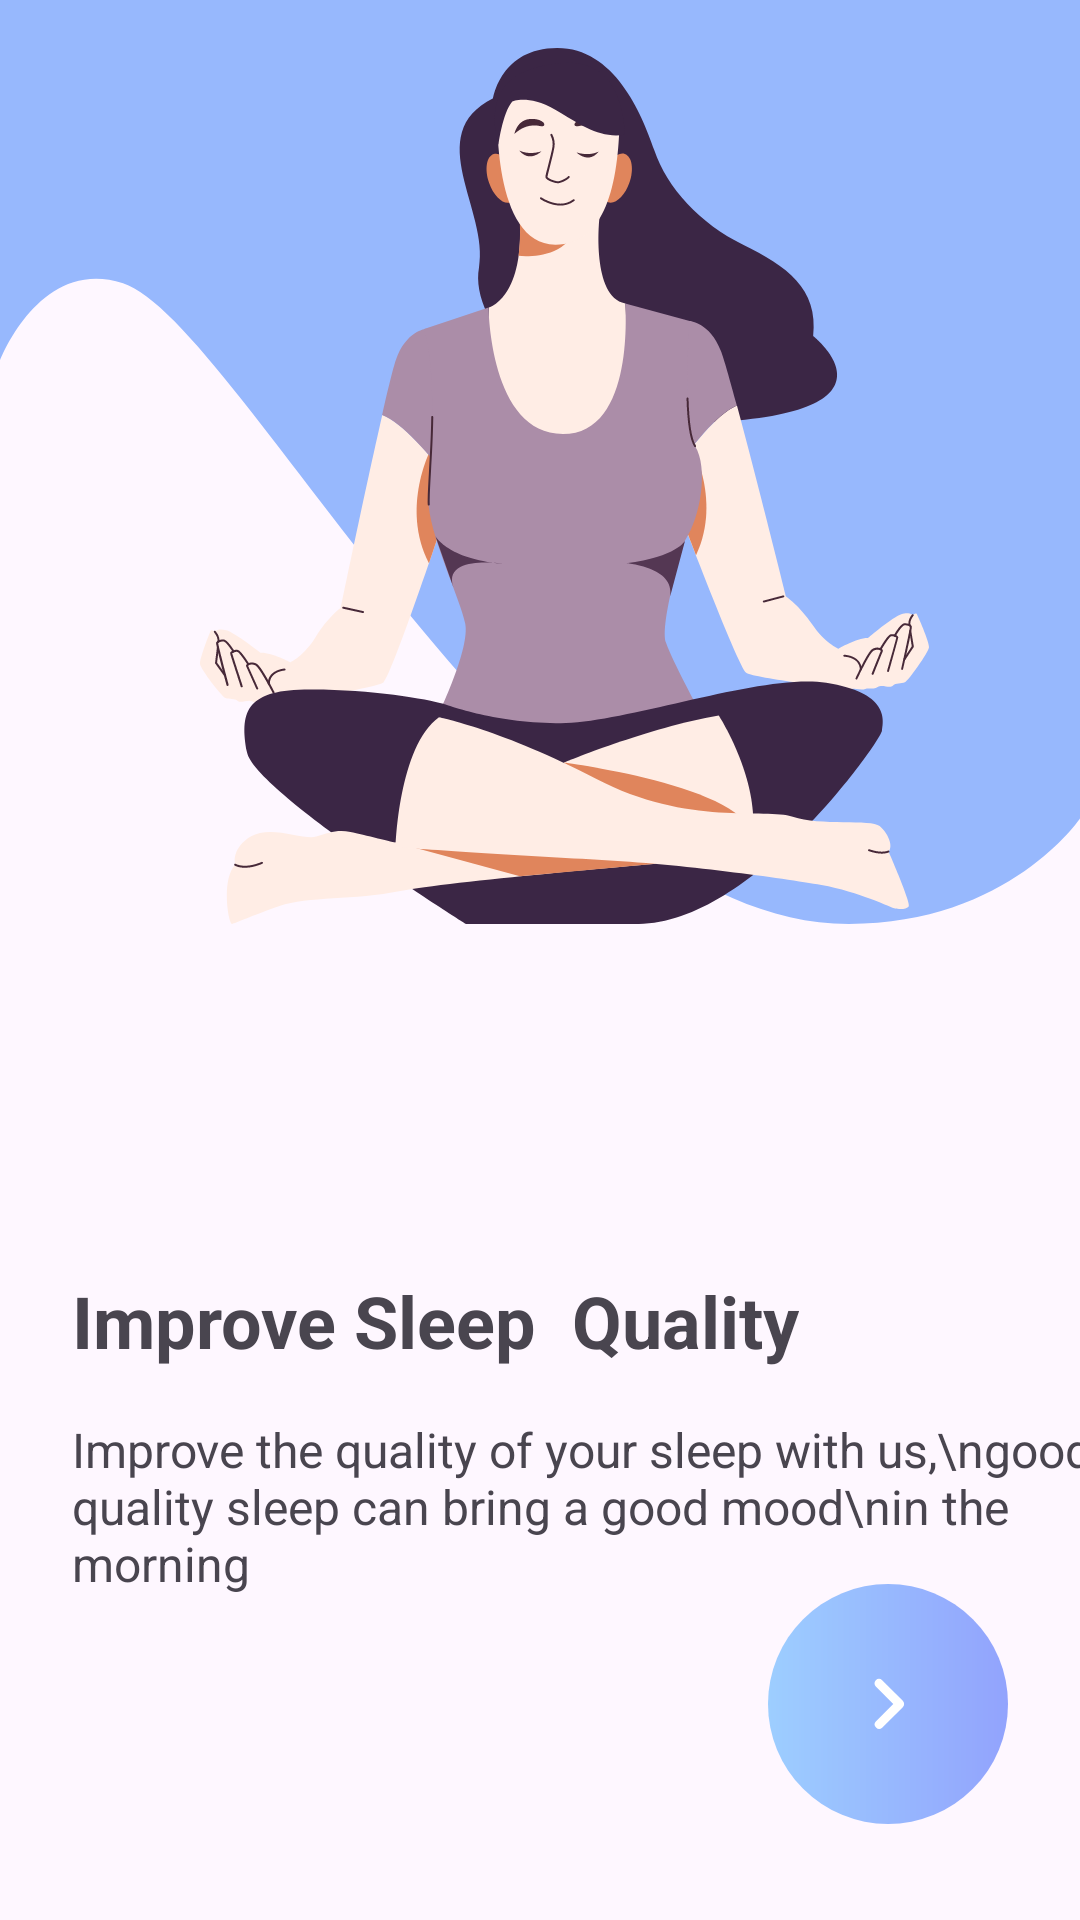

Icons on this 1080px x 1920px Android screen, each with its box as BBox(x1, y1, x2, y2):
right arrow: BBox(768, 1584, 1008, 1824)
